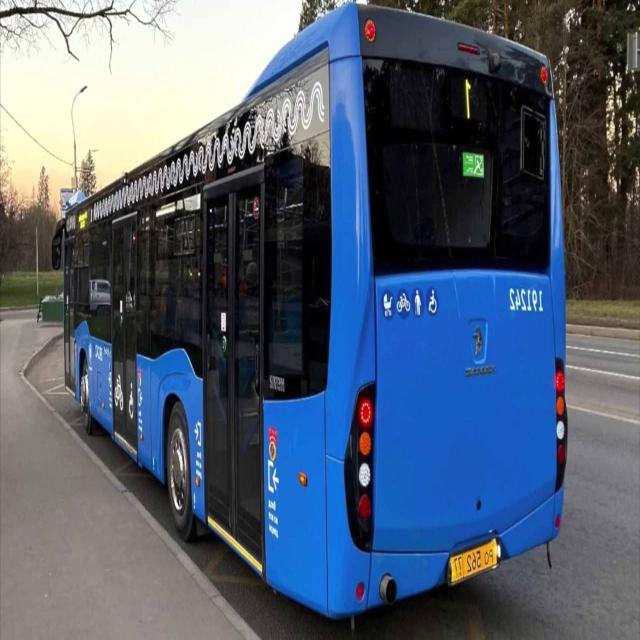bus: (52, 1, 572, 634)
